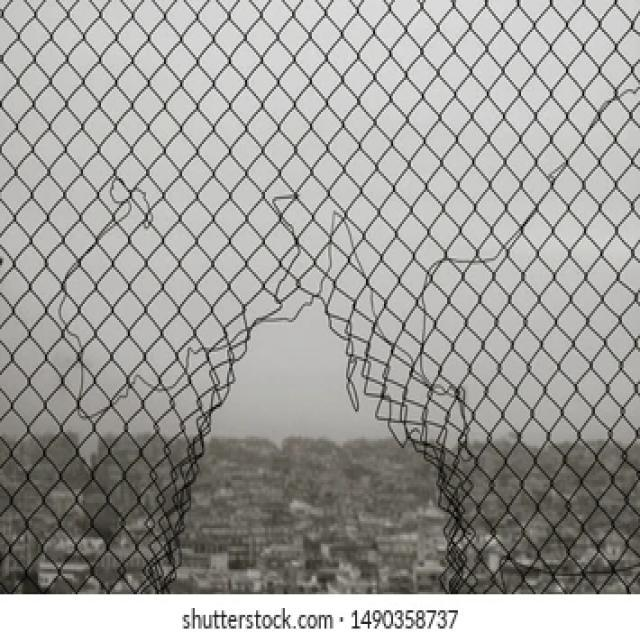fence line: (159, 283, 459, 590)
